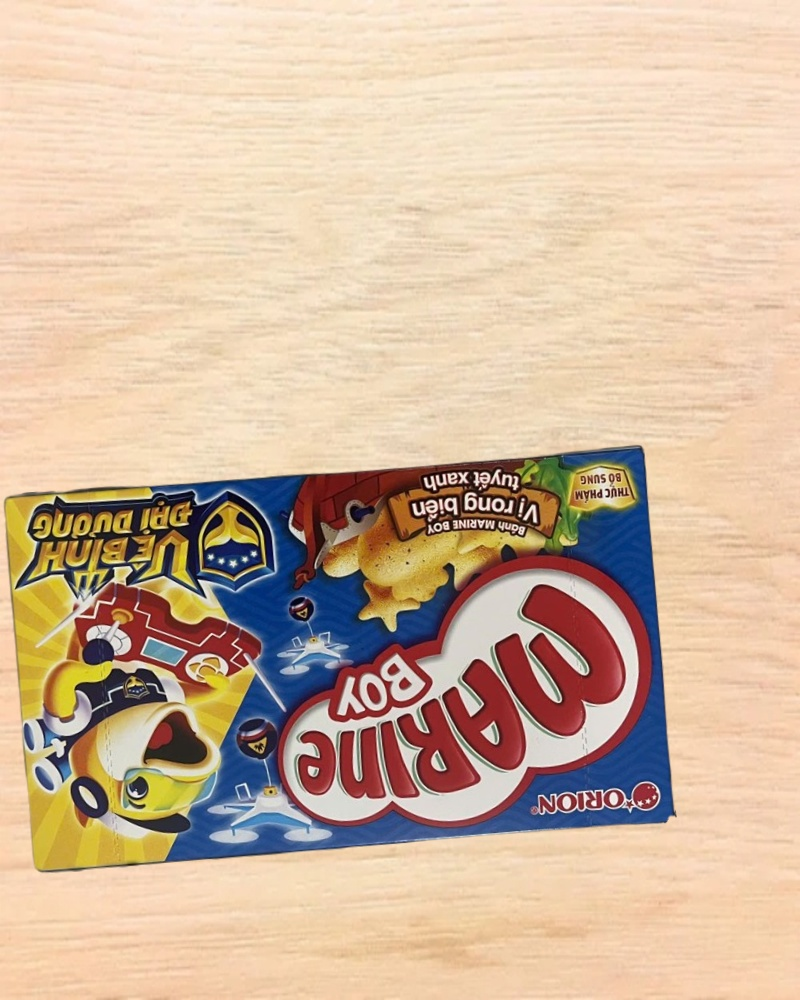Marine: (1, 441, 677, 878)
